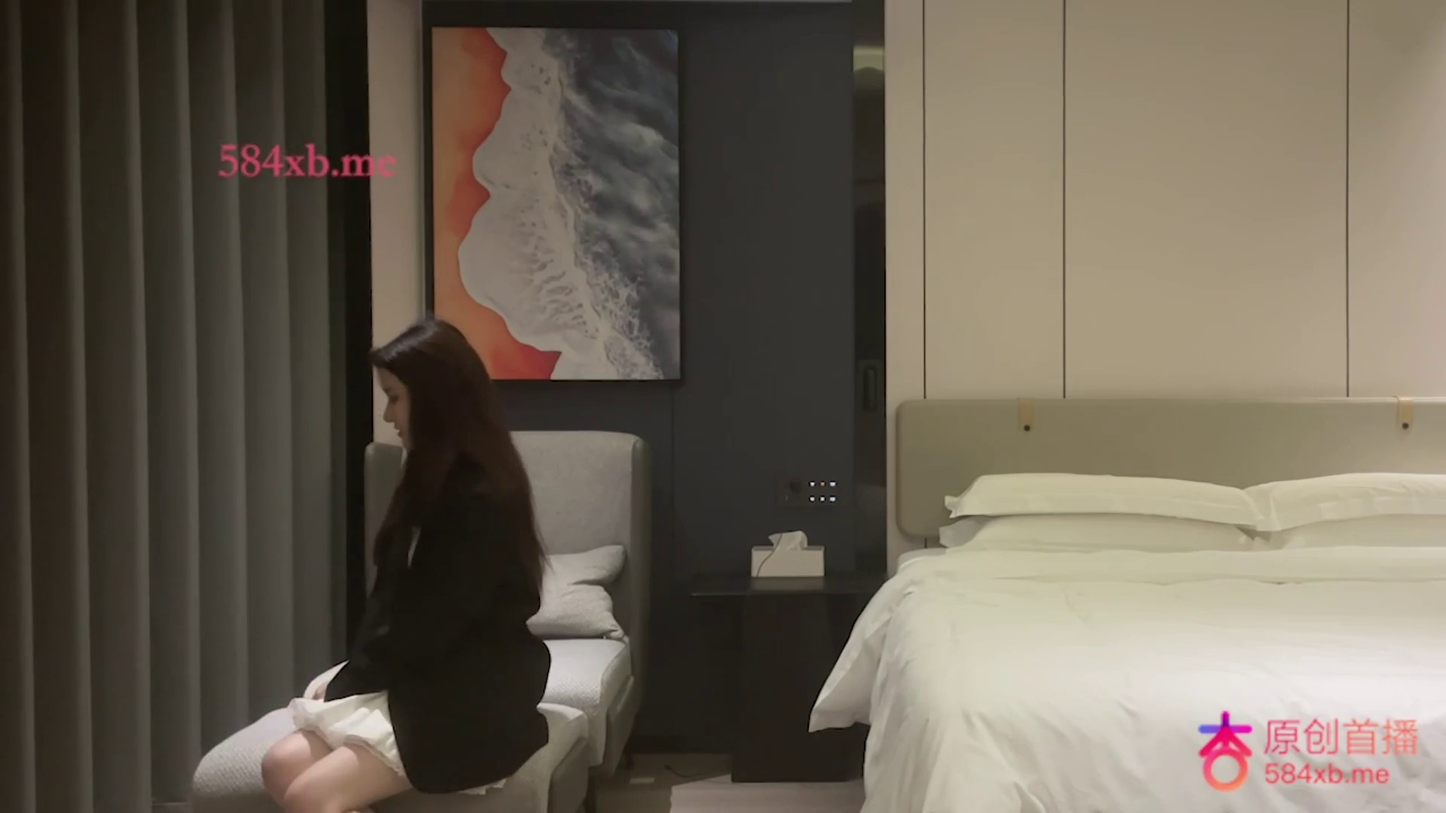sit: (259, 315, 553, 811)
